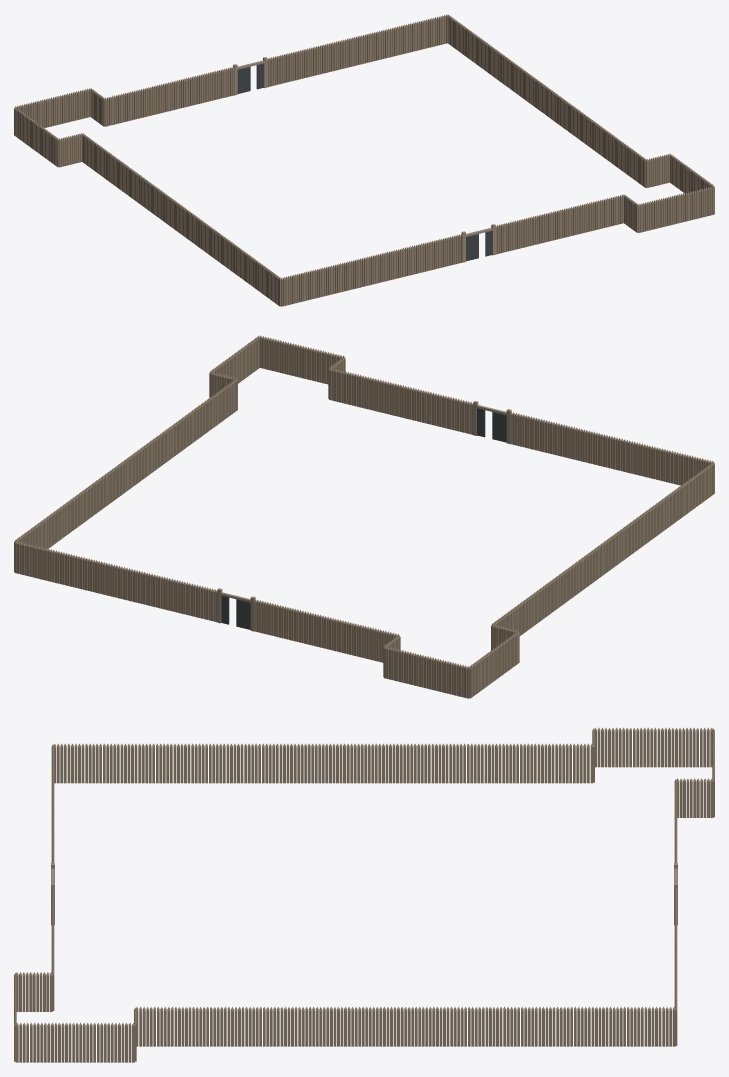
File: fort_dearborn_palisade__picket_1816.glb
The picture shows the model from 3 angles, top to bottom: view 1: azimuth 30°, elevation 25°; view 2: azimuth 150°, elevation 25°; view 3: azimuth 270°, elevation 25°; orthographic projection. The views are drawn at different scales.
Parts seen in each view (by area): view 1: fort_dearborn_palisade__picket_1816; view 2: fort_dearborn_palisade__picket_1816; view 3: fort_dearborn_palisade__picket_1816.
Part boxes in pixels (x1,y1,x2,y2): fort_dearborn_palisade__picket_1816: [14, 14, 714, 306]; fort_dearborn_palisade__picket_1816: [14, 335, 714, 698]; fort_dearborn_palisade__picket_1816: [14, 727, 714, 1062].
Bounding box in the file's own units: 59.64 × 3.8 × 59.64.
